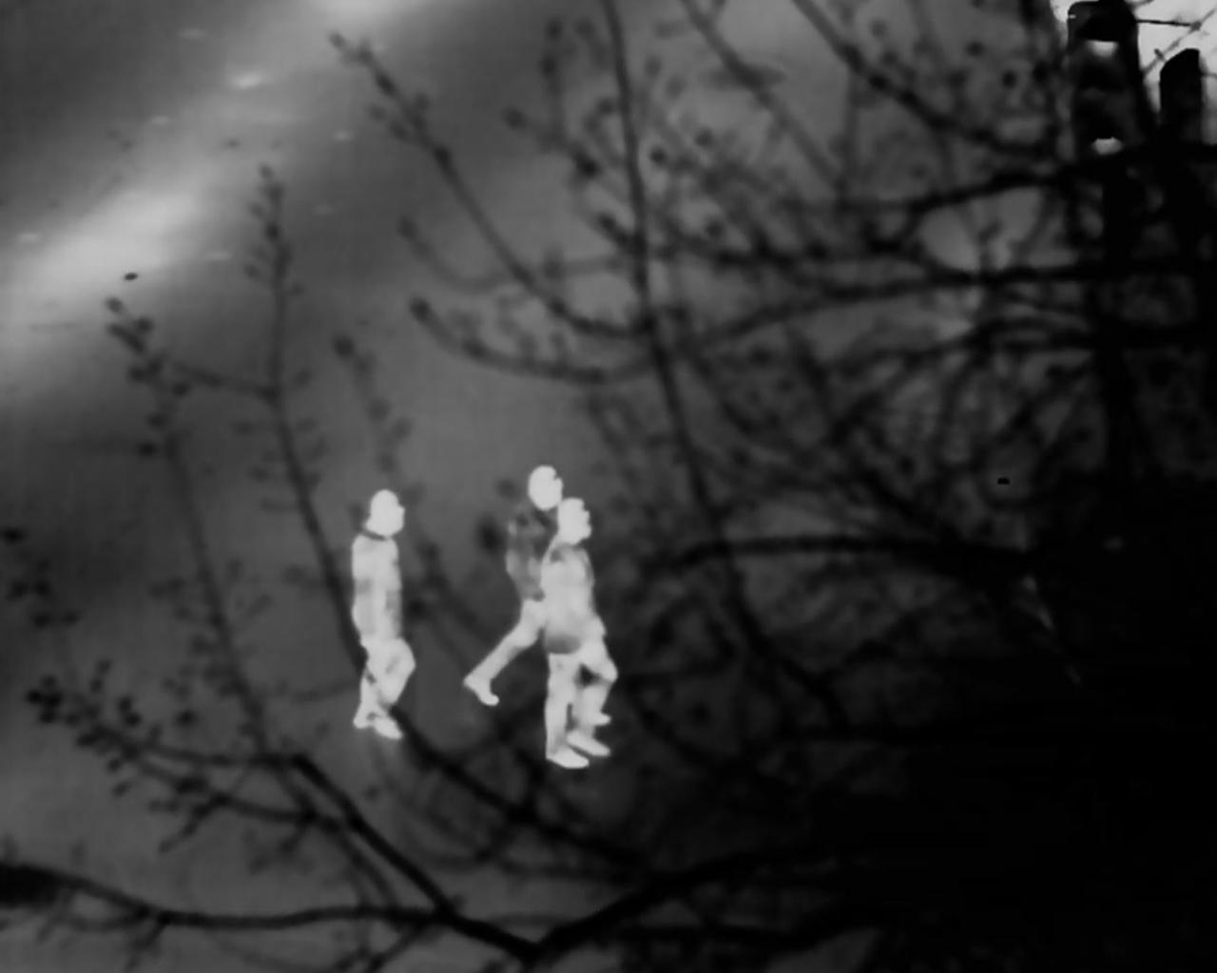person: (467, 458, 598, 710), (538, 499, 612, 769), (353, 481, 415, 718)
